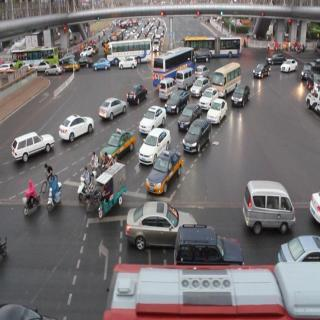BigCar: (179, 36, 247, 58), (105, 37, 153, 65), (210, 62, 244, 97)
Car: (173, 220, 243, 272), (124, 202, 201, 249), (242, 172, 298, 236), (8, 127, 55, 165), (145, 148, 184, 192), (98, 127, 136, 165), (55, 110, 96, 144), (98, 89, 127, 127), (139, 129, 170, 164), (184, 120, 214, 156), (136, 105, 168, 134), (207, 96, 227, 130), (177, 102, 203, 128), (126, 80, 149, 107), (253, 58, 270, 86), (118, 52, 141, 72), (281, 54, 297, 78), (93, 58, 112, 72)
